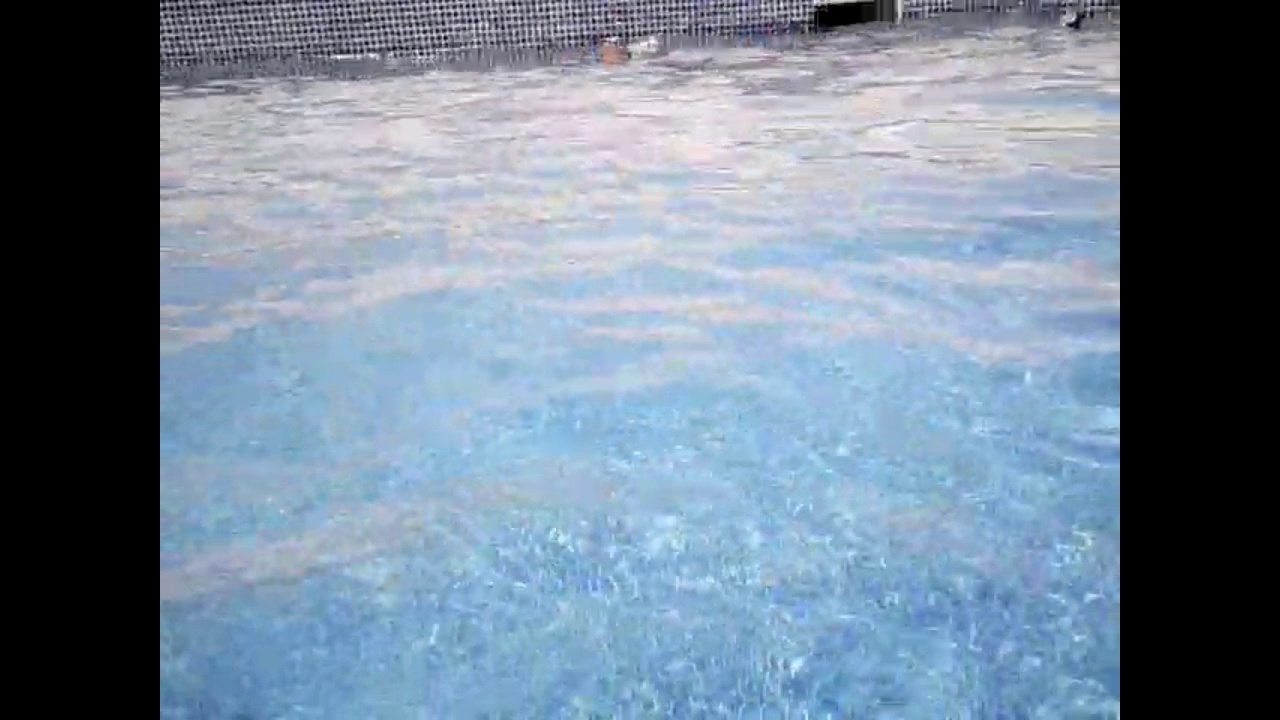debris: (1056, 7, 1094, 34), (623, 37, 660, 58), (595, 32, 622, 51)
